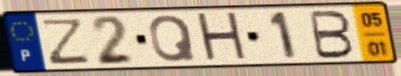1: (269, 10, 300, 62)
2: (88, 14, 137, 67)
B: (307, 9, 357, 61)
H: (193, 10, 251, 65)
Q: (147, 13, 199, 64)
Z: (41, 17, 91, 67)
